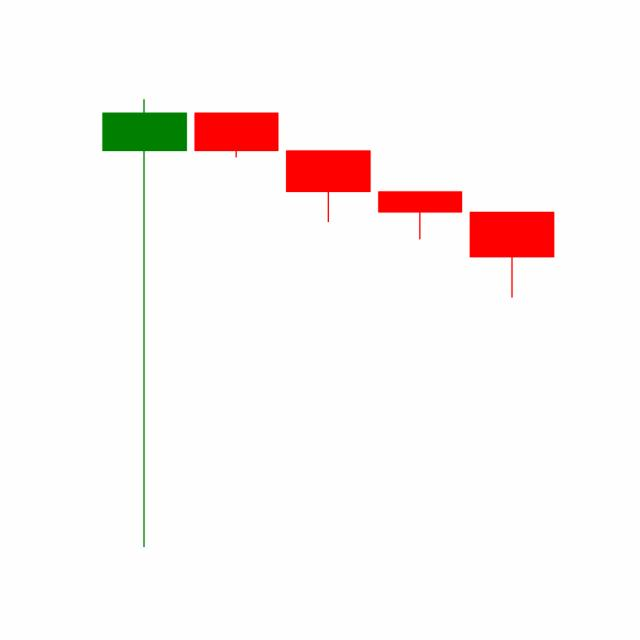Hammer: (373, 190, 467, 240)
